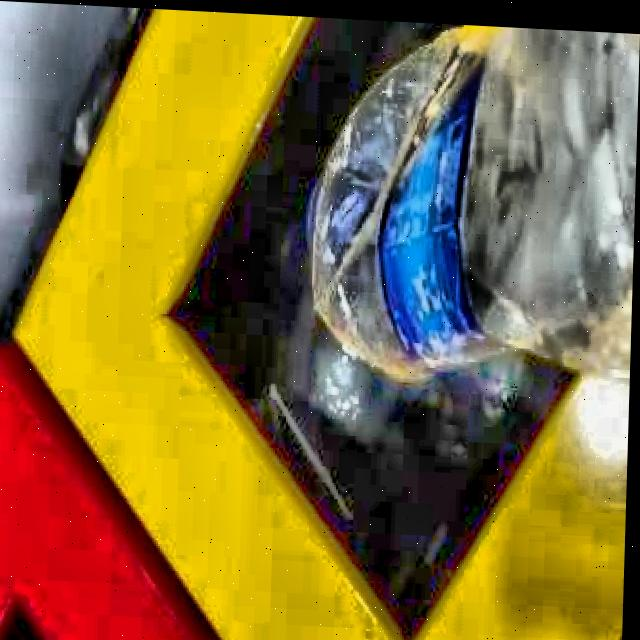plastic: (314, 20, 640, 375)
